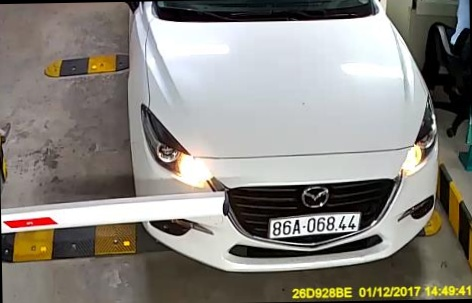plate: (263, 209, 366, 240)
